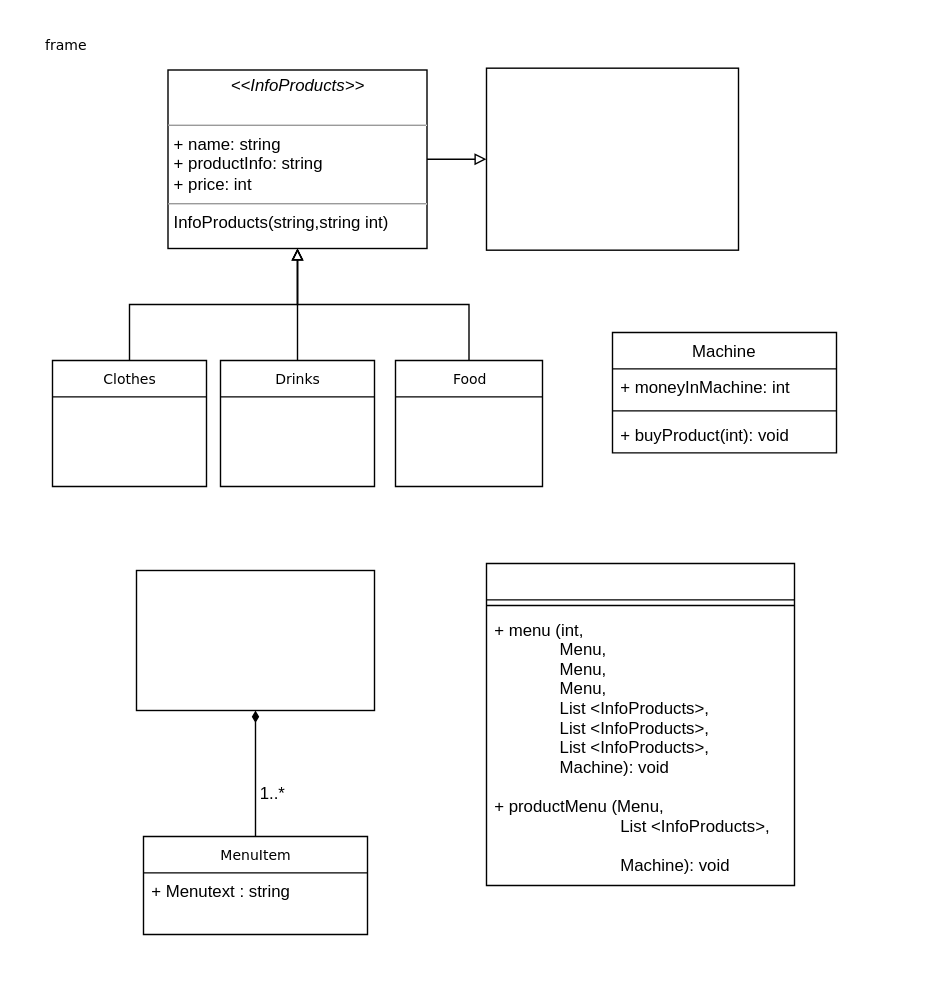
This 930x1000 diagram has some shape labels left out. Each missing label, with the box of its shape:
<< iDescription>> + description(): void + buy(): void + use(): void: (485, 67, 738, 250)
Menu - MenuItems: List<MenuItem> + printMenu(): int: (135, 569, 374, 710)
MenuHelper: (485, 562, 794, 886)
